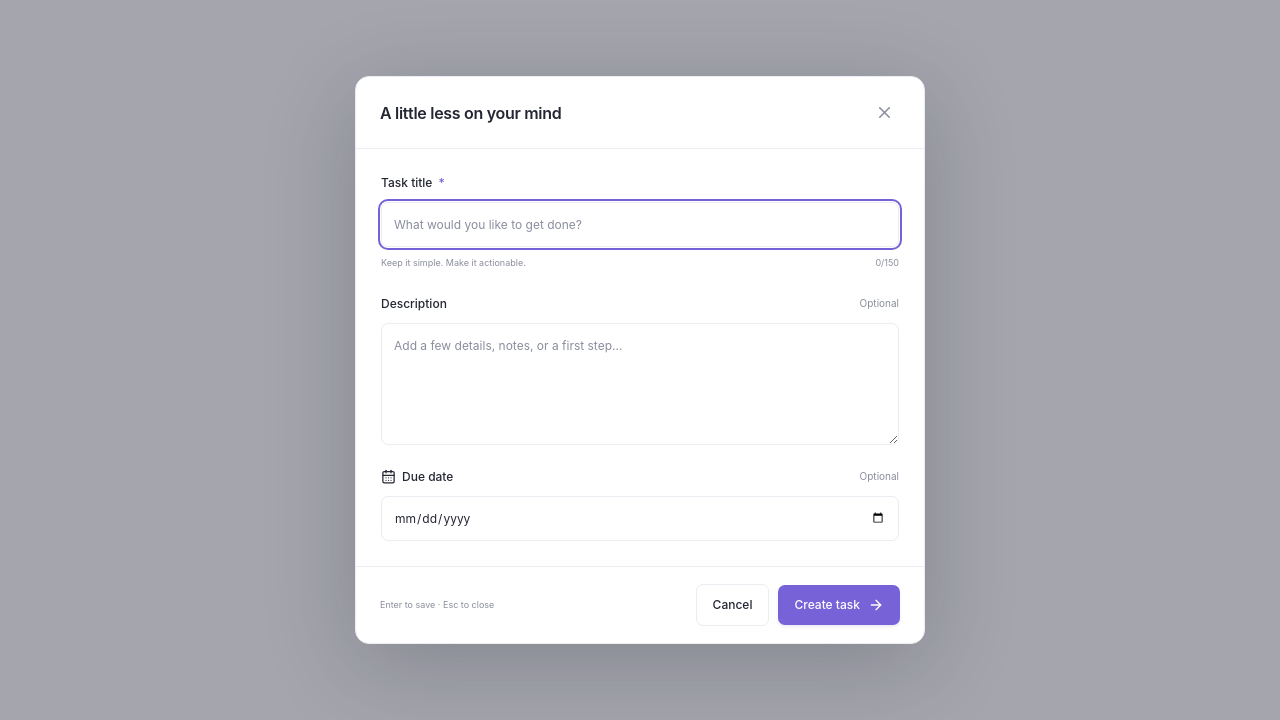
Test: shows backend errors without closing or losing entered text
Step 1. Type "Keep my work" into the field labelled "Task title *" → (640, 225), box [381,202,899,247]
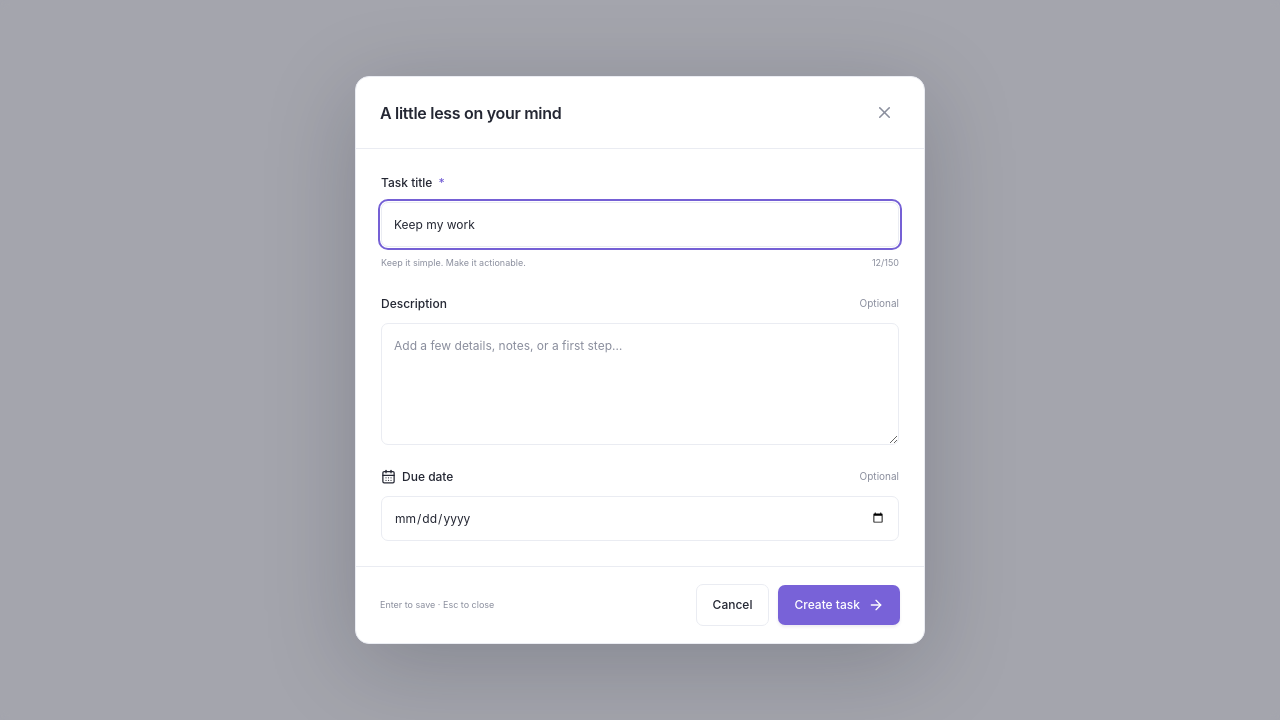
Step 2. Click the button "Create task" → (839, 605), box [778,585,900,625]
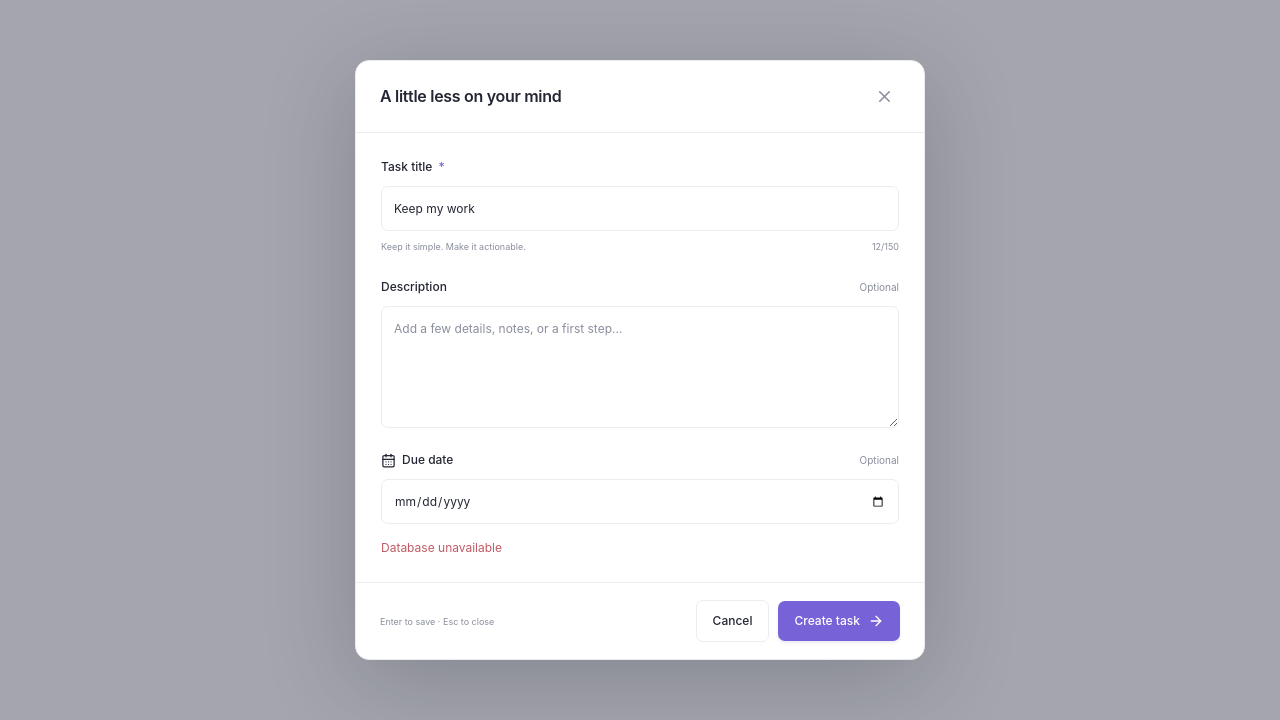
Now the message reads "Database unavailable", box [381,540,502,555]
